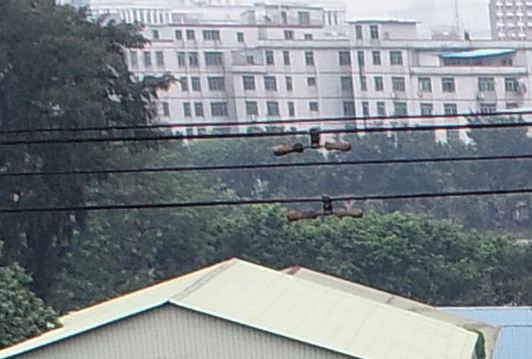damper: (272, 126, 352, 157), (286, 194, 365, 222)
